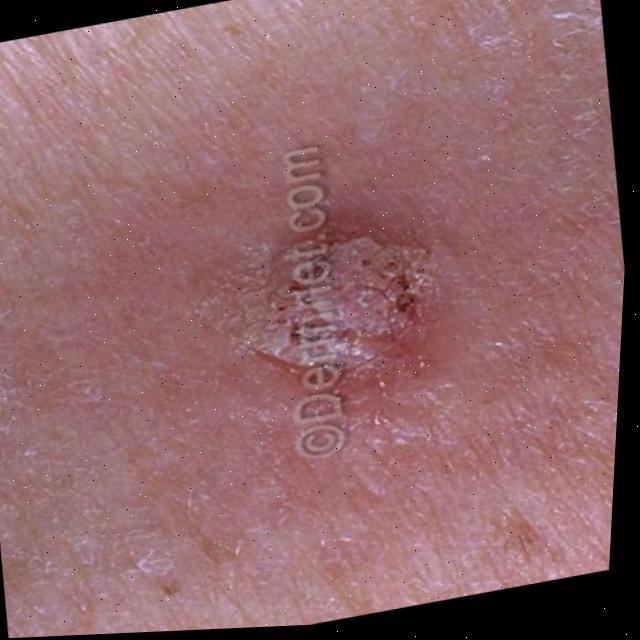Eczema: (212, 179, 456, 409)
